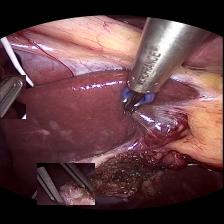Bipolar: (117, 80, 158, 114)
Grasper: (37, 162, 95, 204), (0, 74, 26, 118)
